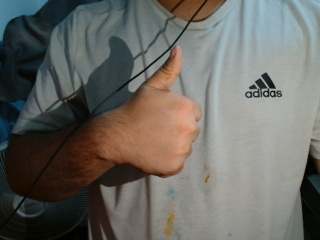Adelante: (92, 41, 217, 192)
